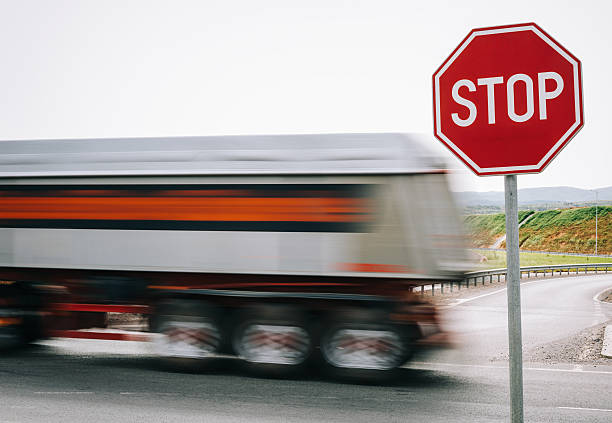StopSign: (431, 21, 585, 177)
